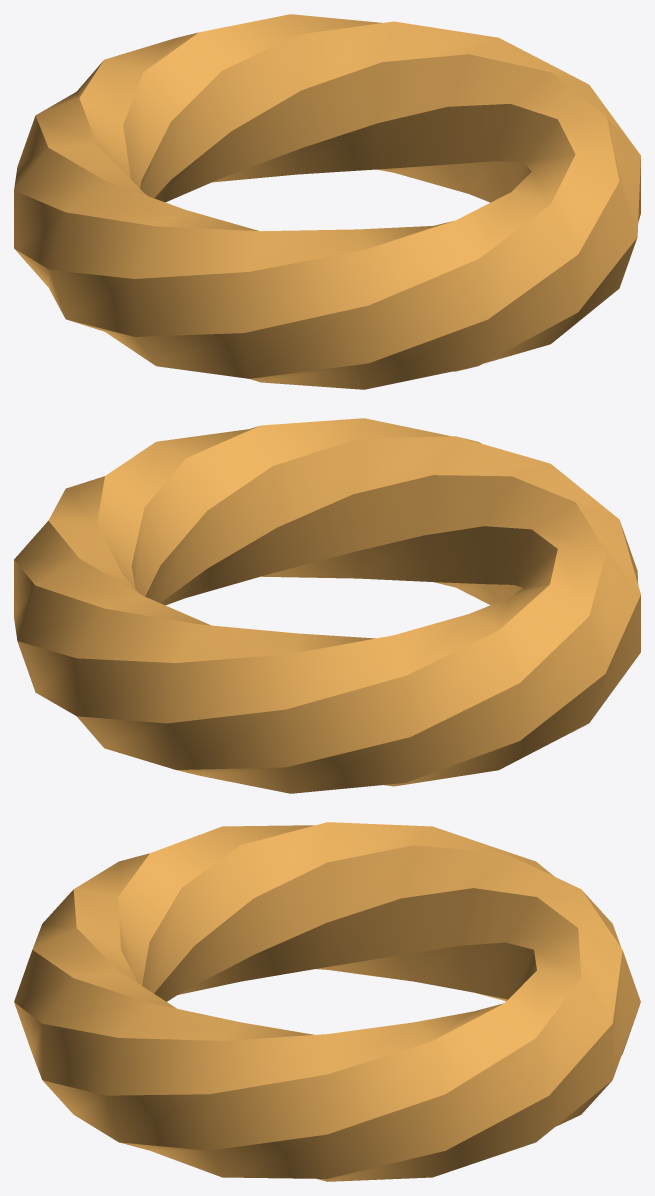
The model's file is TwistedTorus_02.fbx.
3 renders of one model, top to bottom at view 1: azimuth 30°, elevation 25°; view 2: azimuth 150°, elevation 25°; view 3: azimuth 270°, elevation 25°, orthographic. The views are drawn at different scales.
Visible parts, largest first — view 1: TwistedTorus_02; view 2: TwistedTorus_02; view 3: TwistedTorus_02.
Boxes of the visible parts, x1,y1,x2,y2 form: TwistedTorus_02: [14, 14, 640, 389]; TwistedTorus_02: [14, 418, 640, 793]; TwistedTorus_02: [14, 822, 640, 1181].
Size of the model in its own units: 375 by 97.5 by 375.
